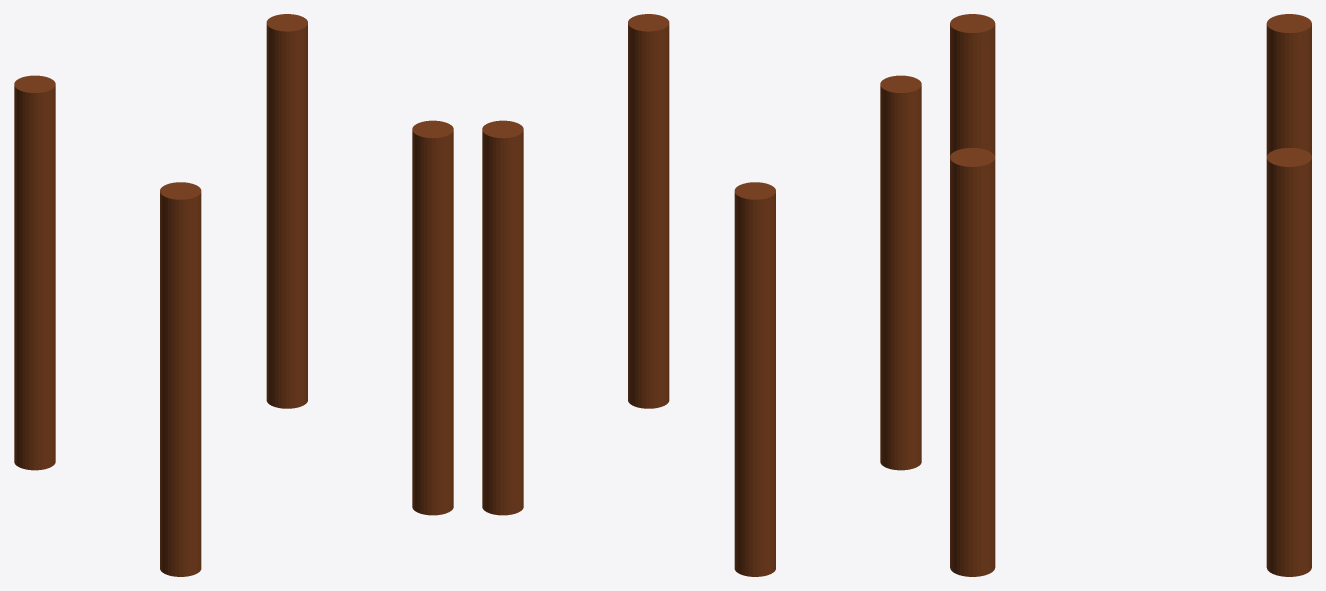
The model's file is chair.obj.
3 views of the same model, side by side, from view 1: azimuth 30°, elevation 25°; view 2: azimuth 150°, elevation 25°; view 3: azimuth 270°, elevation 25° (orthographic). The views are drawn at different scales.
Visible parts, largest first — view 1: Leg_2, Leg_3, Leg_1, Leg_4; view 2: Leg_1, Leg_4, Leg_2, Leg_3; view 3: Leg_2, Leg_4, Leg_1, Leg_3.
Boxes of the visible parts, x1,y1,x2,y2 form: Leg_2: [412, 120, 453, 515]; Leg_3: [14, 75, 55, 470]; Leg_1: [160, 182, 201, 576]; Leg_4: [266, 14, 307, 408]; Leg_1: [880, 75, 921, 470]; Leg_4: [482, 120, 523, 515]; Leg_2: [628, 14, 669, 408]; Leg_3: [734, 182, 775, 576]; Leg_2: [950, 148, 995, 576]; Leg_4: [1266, 148, 1311, 576]; Leg_1: [950, 14, 995, 156]; Leg_3: [1266, 14, 1311, 156].
Size of the model in its own units: 0.8 by 1 by 0.8.
